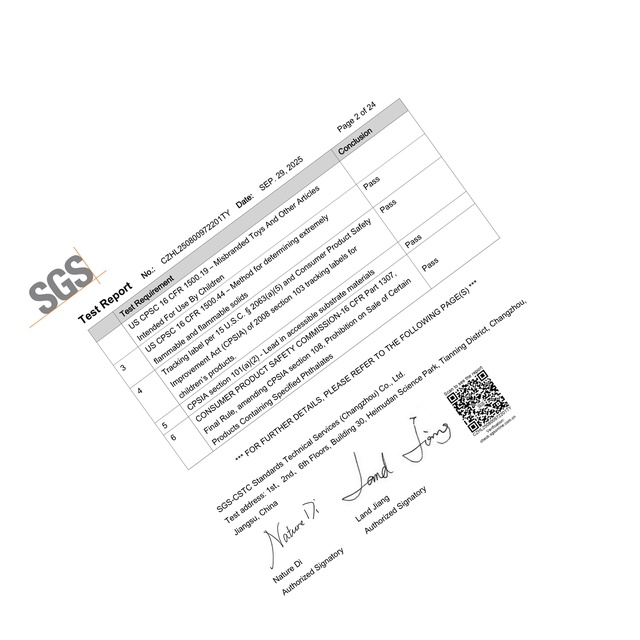sgs: (30, 253, 97, 316)
